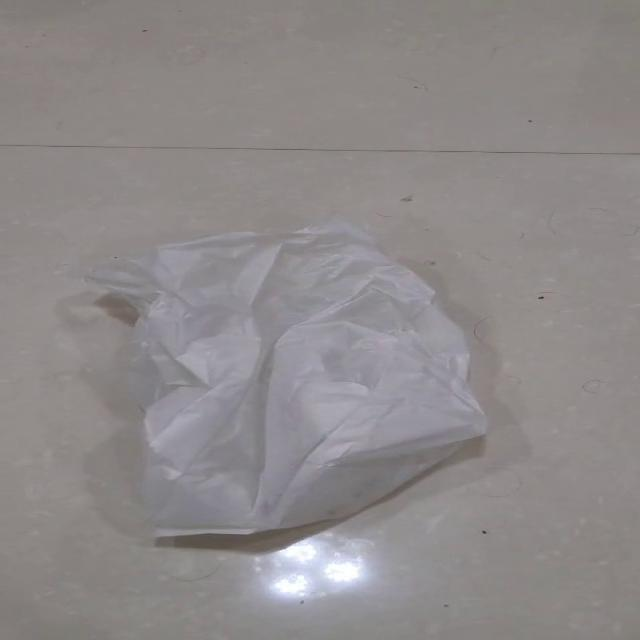plastic: (78, 217, 488, 540)
